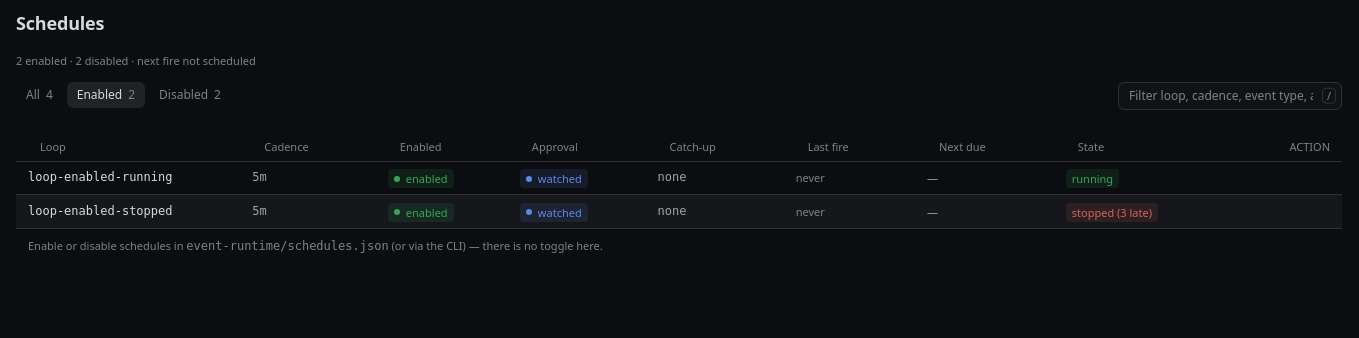
Test case: Schedules tabs and default ordering (WM-549) › defaults to Enabled and exposes All, Enabled, and Disabled counts
Expected: the text "loop-enabled-running" is shown, top-left (16, 162), bottom-right (240, 195)
Expected: the text "loop-disabled-idle" is not shown
Click the tab "All4" at (39, 94), box top-left (16, 82), bottom-right (63, 108)
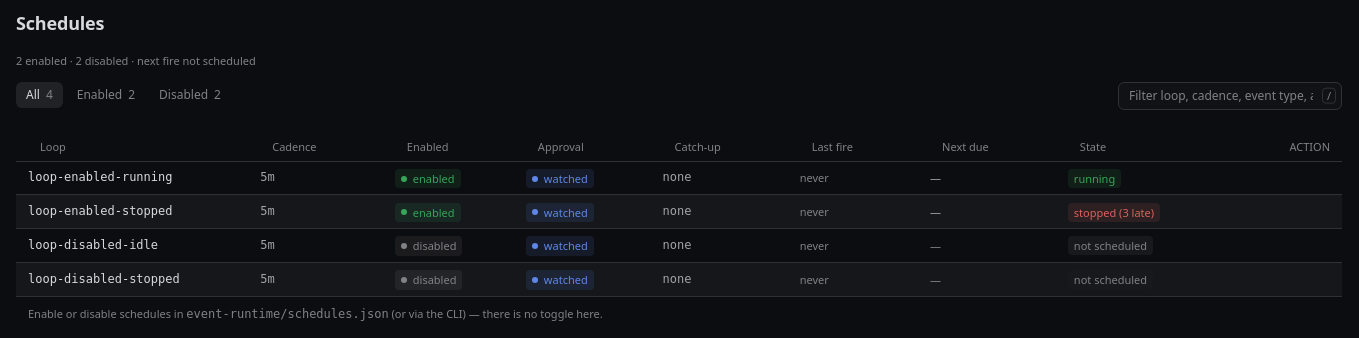
Now the text "loop-disabled-idle" is shown, box top-left (16, 229), bottom-right (248, 263)
Click the tab "Disabled2" at (190, 94), box top-left (149, 82), bottom-right (231, 108)
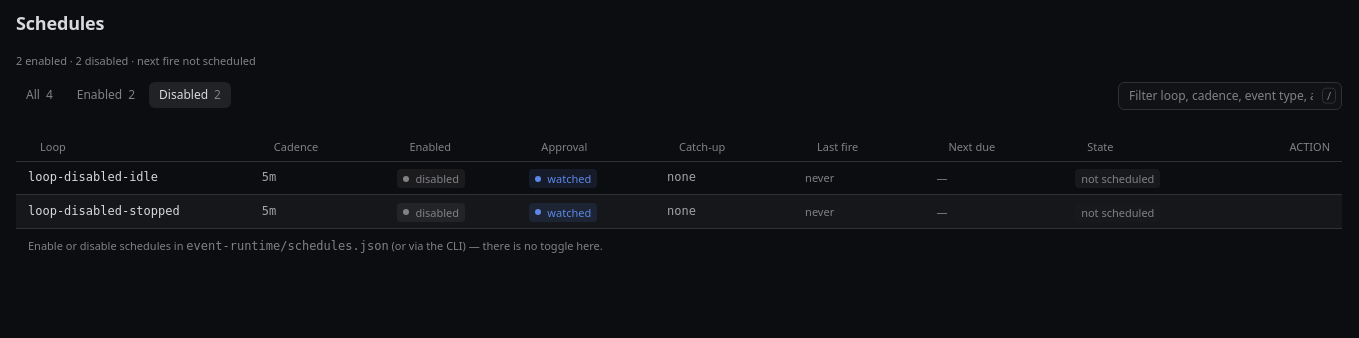
Now the text "loop-disabled-idle" is shown, box top-left (16, 162), bottom-right (250, 195)
Now the text "loop-enabled-running" is gone
